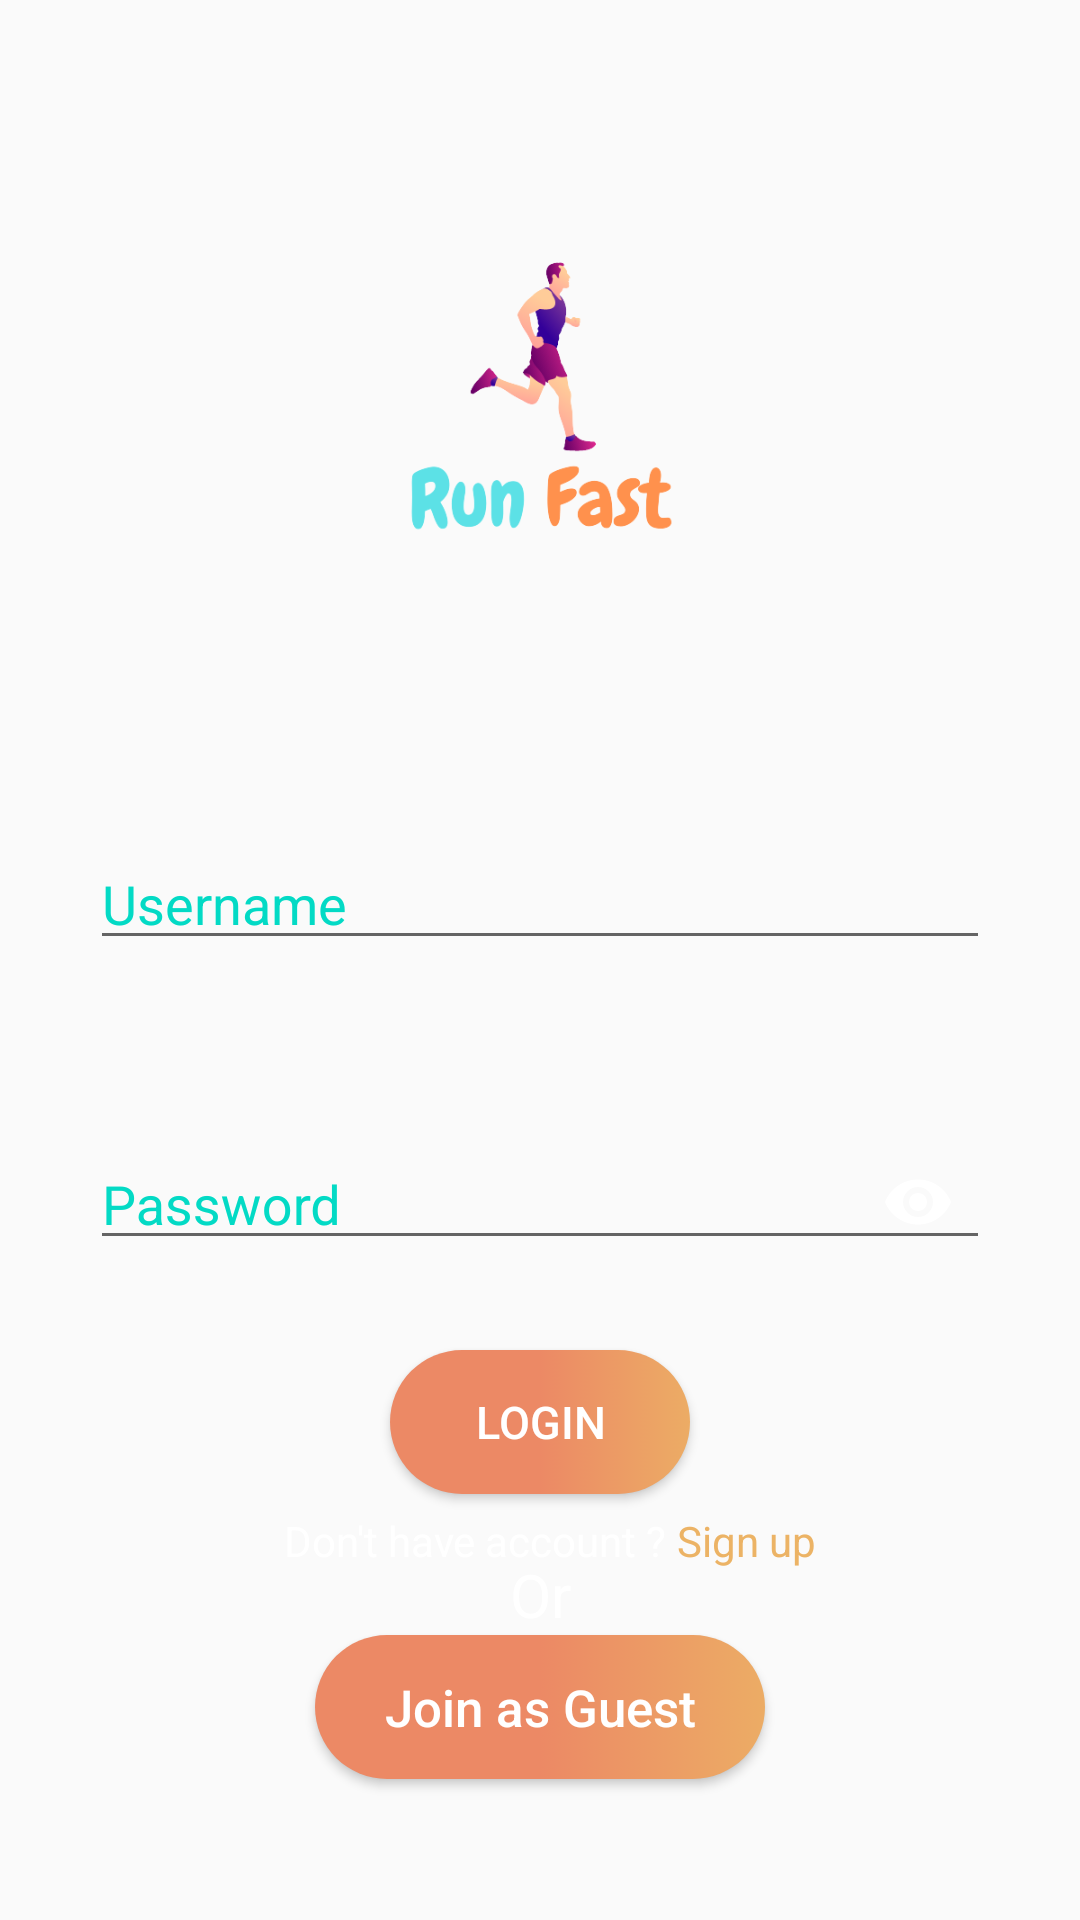

Locate icon controls on the screen. Image size 1080w x 1920h, boxes as {"left": x1, "top": y1, "right": x2, "bottom": y2}.
app: {"left": 411, "top": 262, "right": 672, "bottom": 530}
